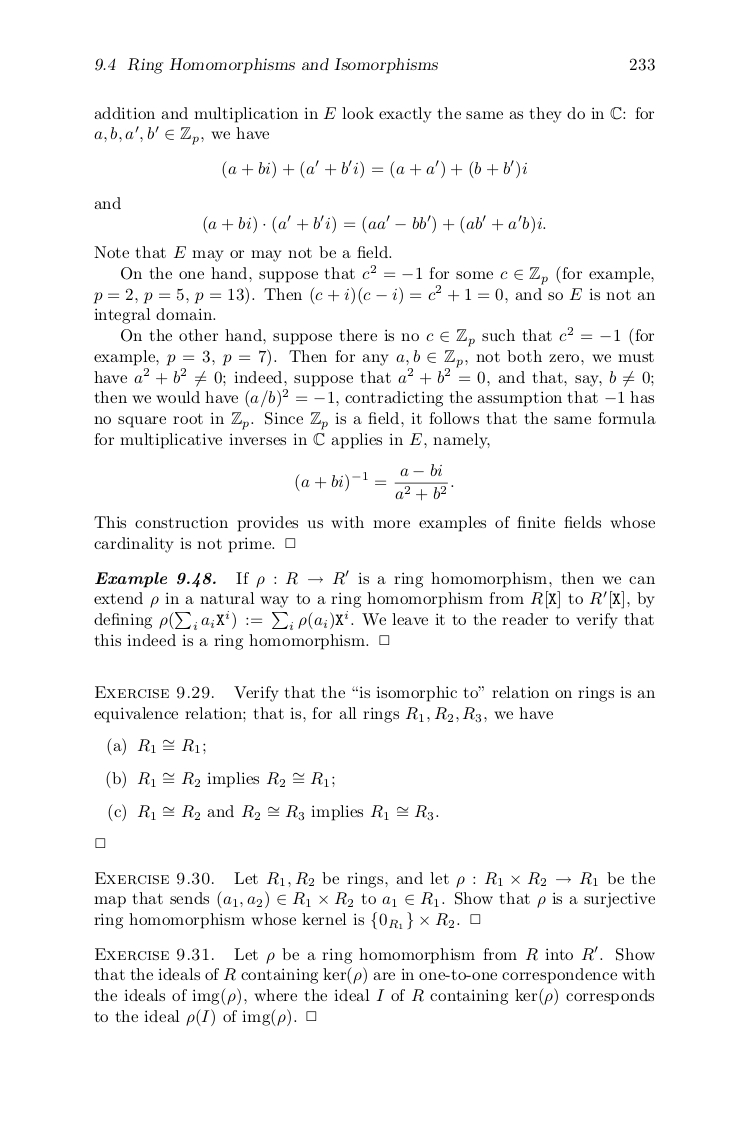formula: (203, 214, 545, 234), (108, 803, 438, 822), (295, 462, 453, 501), (222, 159, 526, 179), (106, 770, 334, 789), (107, 737, 205, 756)
